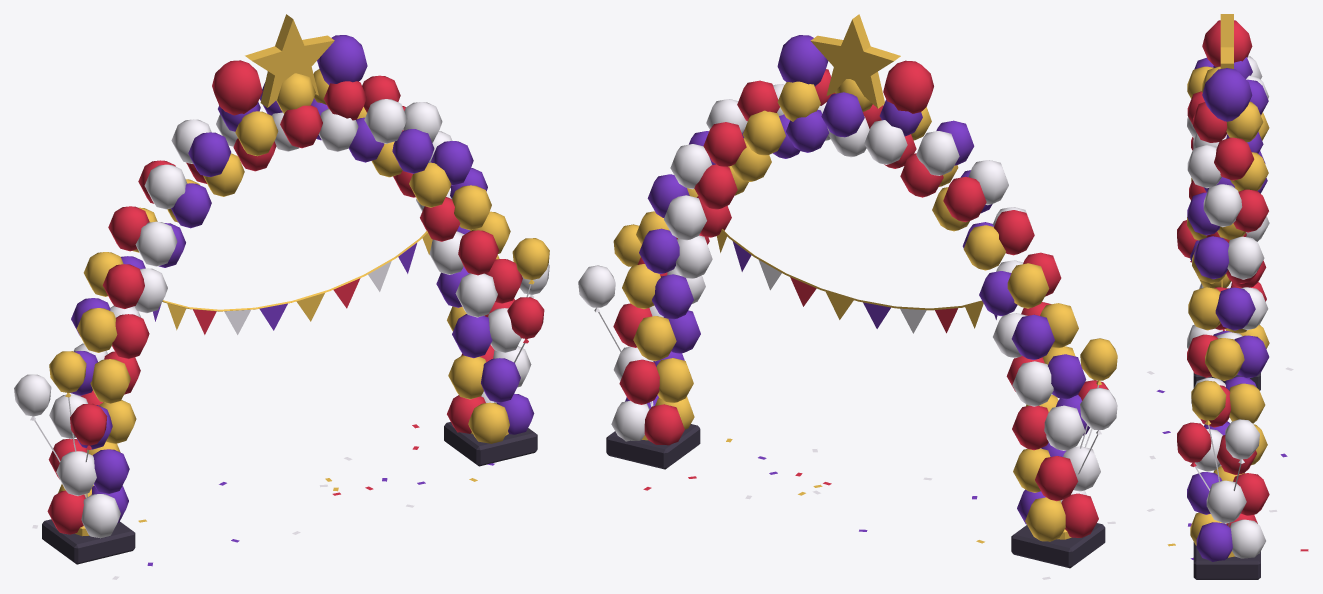
File: balloon_arch.glb
The picture shows the model from 3 angles, left to right: view 1: azimuth 30°, elevation 25°; view 2: azimuth 150°, elevation 25°; view 3: azimuth 270°, elevation 25°; orthographic projection. The views are drawn at different scales.
Visible parts, largest first — view 1: balloon_arch; view 2: balloon_arch; view 3: balloon_arch.
Part boxes in pixels (left/top/right/bottom): balloon_arch: left=14, top=14, right=549, bottom=579; balloon_arch: left=578, top=14, right=1117, bottom=579; balloon_arch: left=1147, top=14, right=1308, bottom=579.
Bounding box in the file's own units: 6.07 × 5.25 × 1.68.
